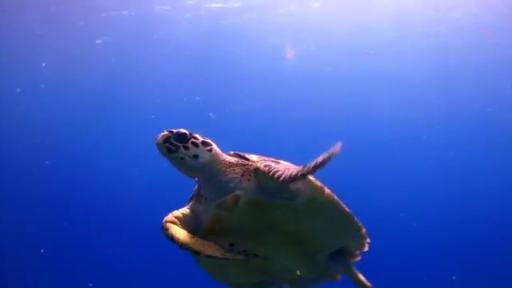Fish: (155, 129, 371, 287)
